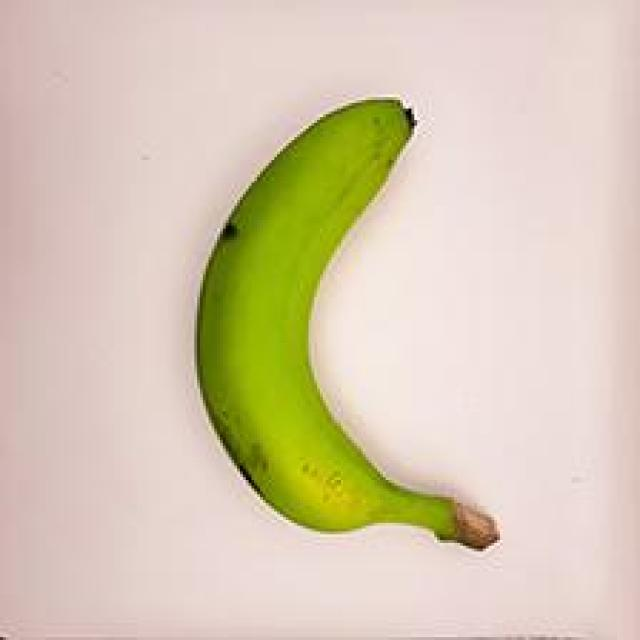unripe: (172, 84, 538, 576)
